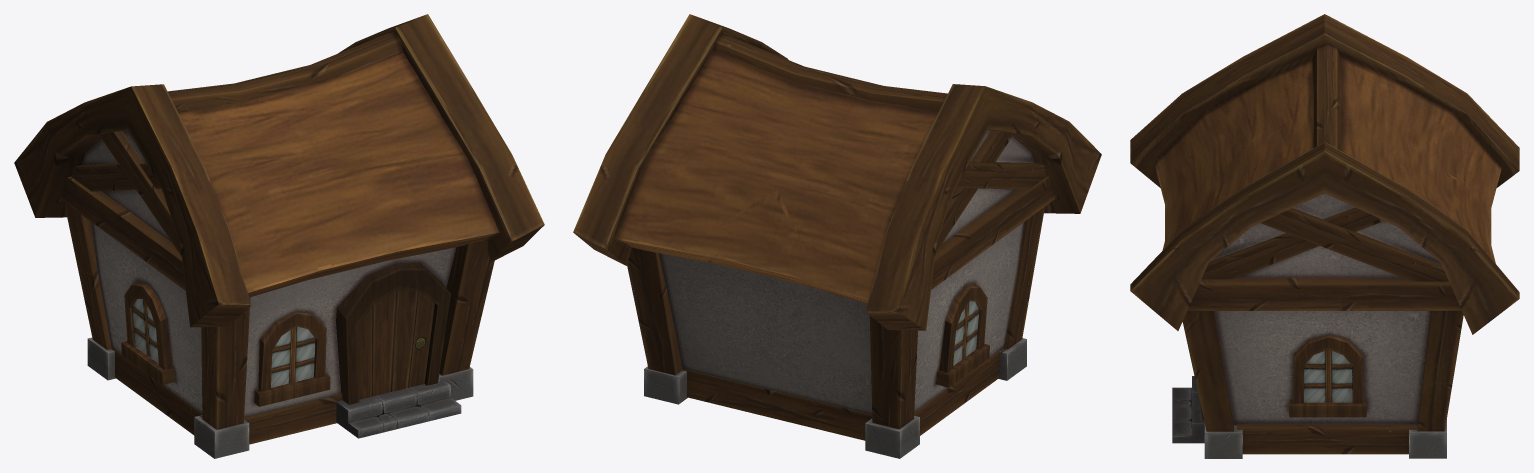
File: modelBuilding_House1.fbx
3 renders of one model, left to right at view 1: azimuth 30°, elevation 25°; view 2: azimuth 150°, elevation 25°; view 3: azimuth 270°, elevation 25°, orthographic. The views are drawn at different scales.
Visible parts, largest first — view 1: modelBuilding_House1; view 2: modelBuilding_House1; view 3: modelBuilding_House1.
Boxes of the visible parts, bbox=[...] form: modelBuilding_House1: bbox=[14, 14, 544, 458]; modelBuilding_House1: bbox=[573, 14, 1101, 458]; modelBuilding_House1: bbox=[1130, 14, 1519, 458].
Bounding box in the file's own units: 73.55 × 70.03 × 78.24.
Materials: 1 (1 with a texture image).
